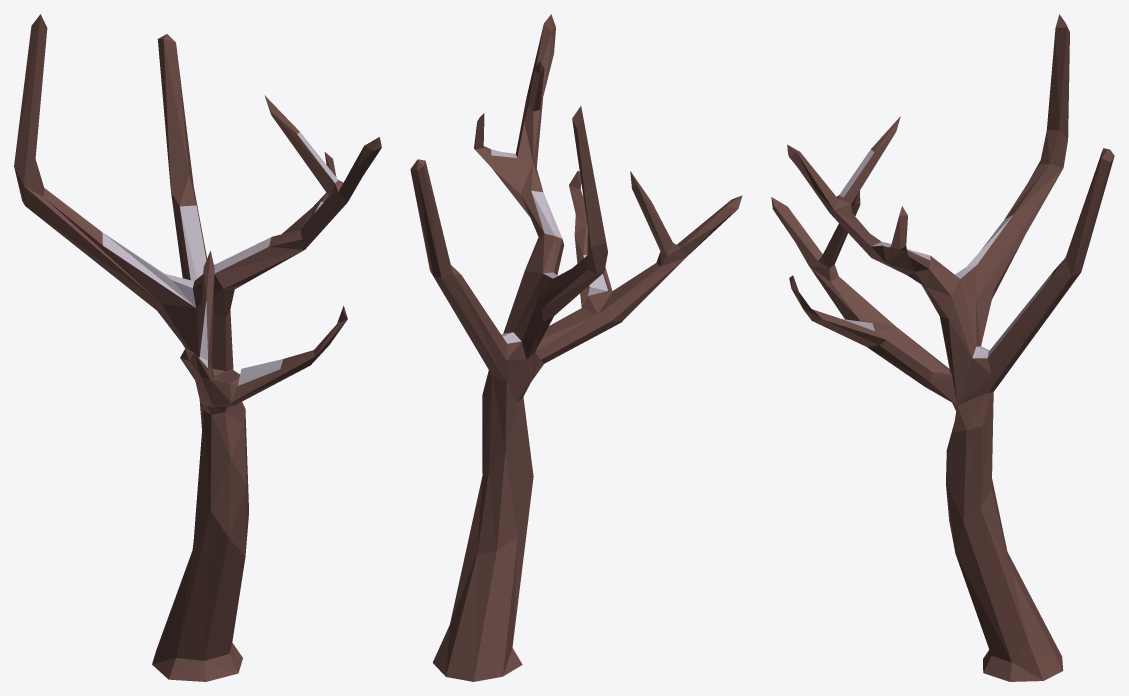
Rendered from CommonTree_Dead_Snow_5.lod2.glb.
3 renders of one model, left to right at view 1: azimuth 30°, elevation 25°; view 2: azimuth 150°, elevation 25°; view 3: azimuth 270°, elevation 25°, orthographic. The views are drawn at different scales.
Visible parts, largest first — view 1: CommonTree_Dead_Snow_5; view 2: CommonTree_Dead_Snow_5; view 3: CommonTree_Dead_Snow_5.
Boxes of the visible parts, x1,y1,x2,y2 form: CommonTree_Dead_Snow_5: (14,14,381,681); CommonTree_Dead_Snow_5: (410,14,742,681); CommonTree_Dead_Snow_5: (771,14,1114,681).
Size of the model in its own units: 0.8445 by 2.29 by 1.2.
